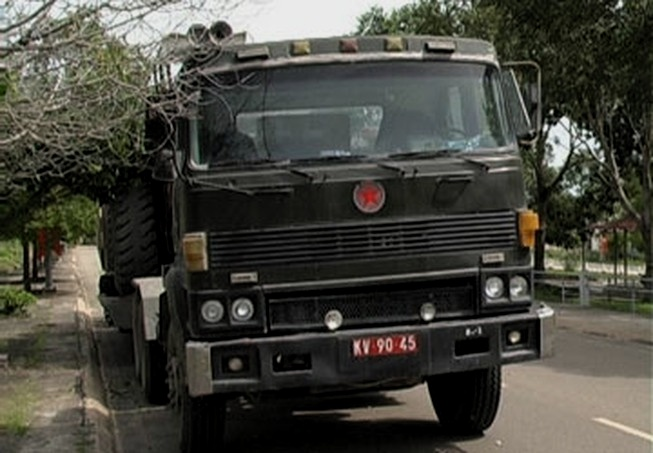plate: (349, 333, 425, 363)
